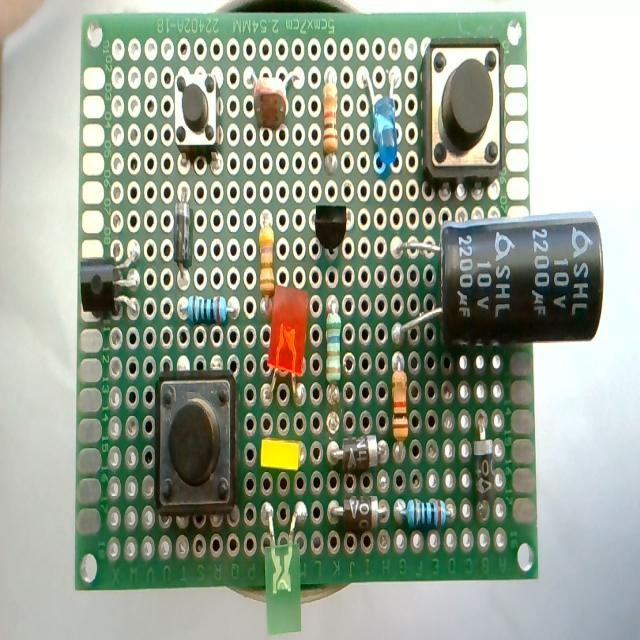Electrolytic capacitor: (392, 215, 606, 351)
cds: (245, 65, 303, 138)
diode: (331, 434, 385, 472), (473, 411, 495, 497), (329, 498, 387, 530), (173, 186, 191, 285)
led: (263, 286, 310, 405), (264, 504, 305, 635), (364, 65, 401, 174), (259, 436, 303, 472)
resistor: (326, 299, 345, 426), (395, 497, 454, 531), (258, 215, 276, 313), (322, 65, 339, 164), (183, 296, 234, 326), (391, 360, 408, 441)
switch: (154, 370, 238, 516), (422, 38, 504, 182), (174, 70, 218, 154)
transistor: (80, 246, 140, 317), (314, 206, 347, 256)
